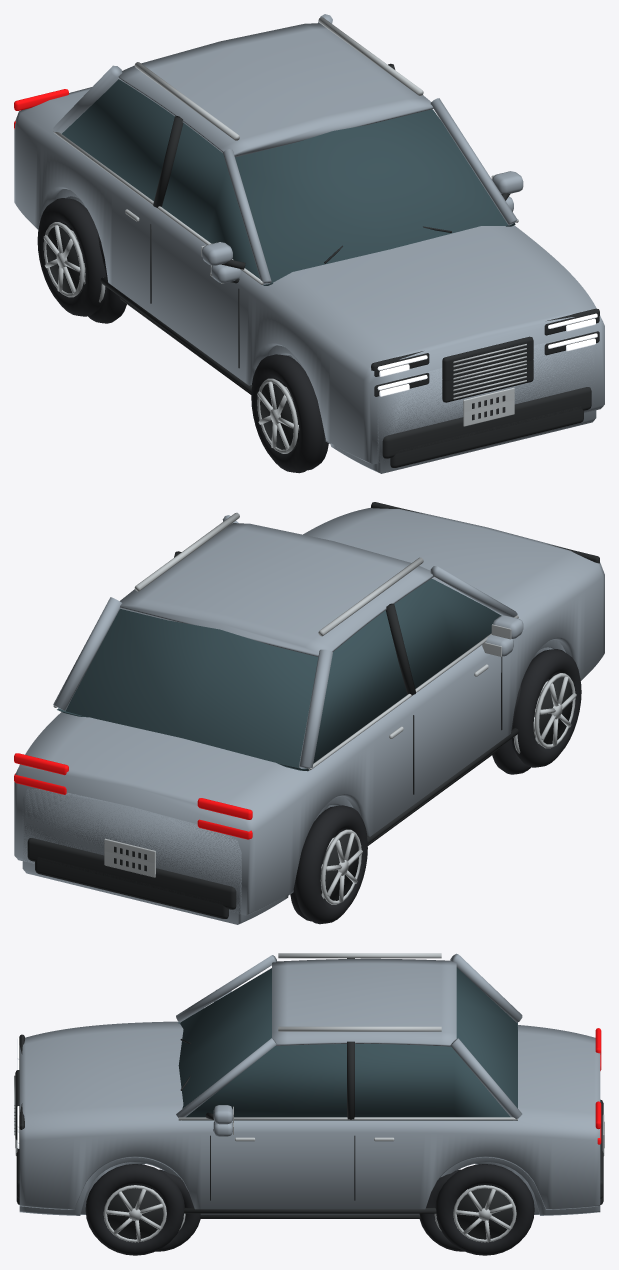
Rendered from vehicles.glb.
3 views of the same model, one above another, from view 1: azimuth 30°, elevation 25°; view 2: azimuth 150°, elevation 25°; view 3: azimuth 270°, elevation 25° (orthographic). The views are drawn at different scales.
Parts seen in each view (by area): view 1: suv_paint, suv_glass, suv_trim, sedan_paint, wheel_left_front.002, wheel_left_rear.002, sedan_trim, suv_metal, sedan_metal, wheel_left_rear.001, suv_headlights, sedan_headlights; view 2: suv_paint, suv_glass, sedan_paint, suv_trim, wheel_left_rear.002, wheel_left_front.002, suv_metal, sedan_trim, suv_taillights, wheel_left_front.001, sedan_taillights, sedan_metal; view 3: suv_paint, suv_glass, wheel_right_rear.002, wheel_right_front.002, suv_metal, suv_trim, sedan_paint, sedan_trim, wheel_right_rear.001, wheel_right_front.001, hatchback_paint, hatchback_trim.
Boxes of the visible parts, x1,y1,x2,y2 form: suv_paint: (14,14,604,464); suv_glass: (62,79,515,285); suv_trim: (100,63,599,458); sedan_paint: (36,189,596,473); wheel_left_front.002: (251,354,323,473); wheel_left_rear.002: (37,198,106,316); sedan_trim: (119,278,599,467); suv_metal: (53,17,526,414); sedan_metal: (210,265,526,426); wheel_left_rear.001: (70,228,126,323); suv_headlights: (377,313,597,376); sedan_headlights: (377,333,597,396); suv_paint: (14,507,604,915); suv_glass: (57,578,501,771); sedan_paint: (22,634,583,924); suv_trim: (27,502,599,909); wheel_left_rear.002: (295,805,367,924); wheel_left_front.002: (512,649,581,767); suv_metal: (53,512,518,864); sedan_trim: (35,747,499,918); suv_taillights: (14,753,252,819); wheel_left_front.001: (492,679,548,774); sedan_taillights: (14,773,252,839); sedan_metal: (104,642,501,877); suv_paint: (19,953,600,1209); suv_glass: (178,967,517,1120); wheel_right_rear.002: (435,1164,534,1255); wheel_right_front.002: (85,1164,184,1255); suv_metal: (14,953,604,1144); suv_trim: (15,958,604,1213); sedan_paint: (19,1121,600,1215); sedan_trim: (15,1065,604,1218); wheel_right_rear.001: (419,1169,482,1251); wheel_right_front.001: (140,1169,200,1251); hatchback_paint: (80,1162,539,1214); hatchback_trim: (204,1215,415,1218).
Bounding box in the file's own units: 2.33 × 1.85 × 4.63.
